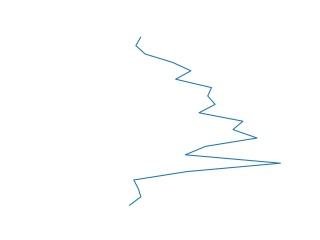floodSwamp: (124, 36, 287, 205)
